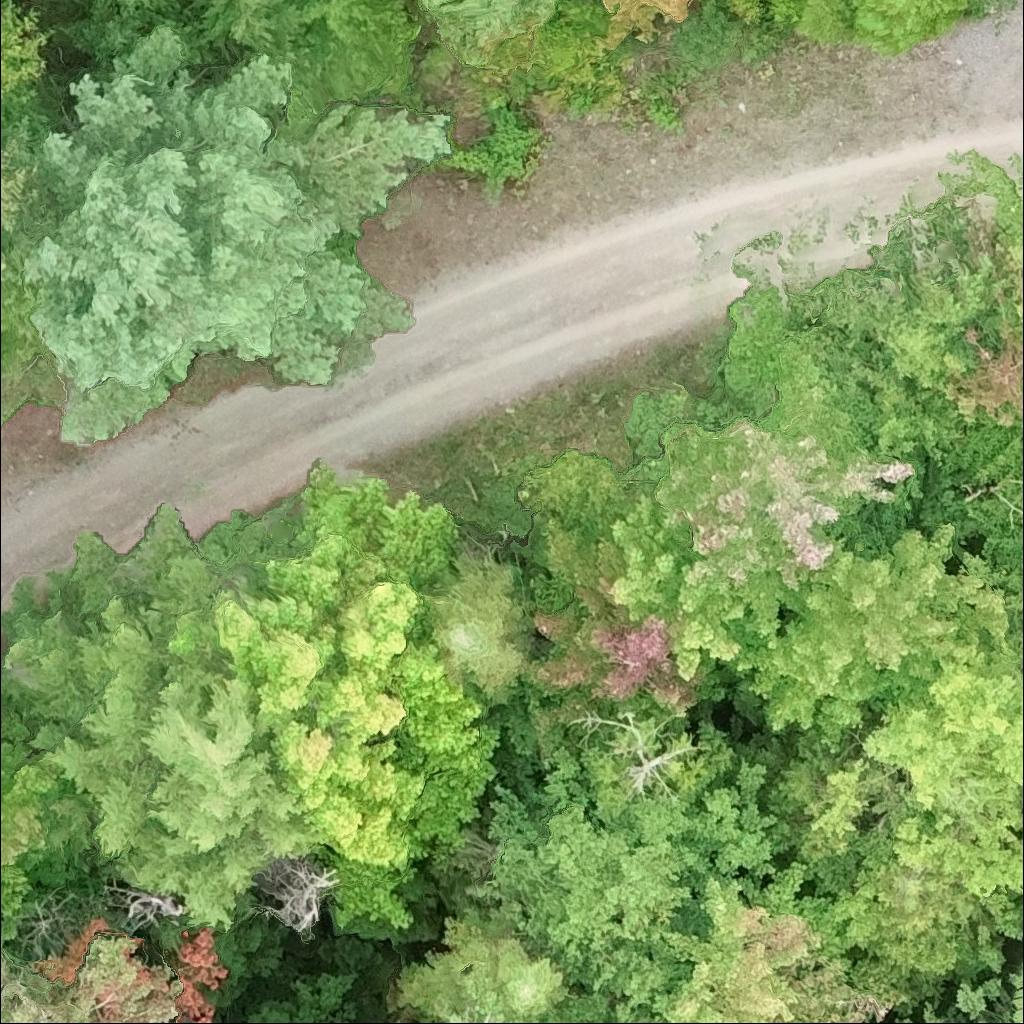crown: (15, 23, 456, 442), (166, 458, 506, 876), (0, 503, 325, 933), (634, 329, 917, 651), (484, 730, 787, 1014), (723, 522, 1008, 752), (862, 574, 1023, 900), (485, 580, 729, 774), (652, 863, 898, 1023), (605, 492, 748, 680), (0, 920, 231, 1023), (395, 915, 572, 1023), (423, 540, 534, 711), (852, 864, 978, 1008), (0, 724, 95, 884), (522, 516, 625, 614), (0, 110, 56, 284), (420, 0, 561, 68), (260, 851, 343, 945), (60, 0, 169, 68), (180, 0, 309, 57), (0, 0, 56, 126), (849, 0, 967, 52), (591, 0, 695, 51), (950, 954, 1023, 1023), (103, 884, 182, 930), (791, 0, 859, 46), (112, 0, 188, 20), (611, 999, 665, 1023), (515, 1019, 541, 1023)
